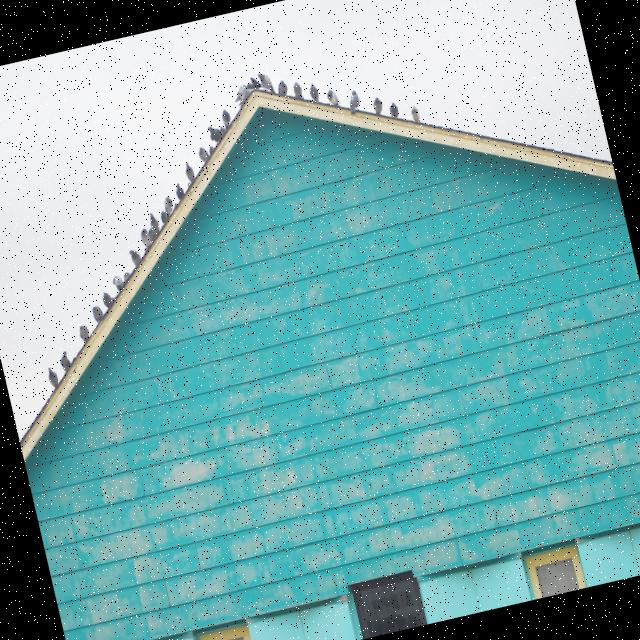bird: (230, 77, 264, 106), (256, 70, 276, 96), (346, 88, 362, 115), (207, 123, 224, 145), (46, 364, 60, 390), (57, 350, 73, 372), (183, 160, 196, 183), (326, 88, 340, 109), (162, 195, 176, 216), (307, 82, 320, 103), (91, 304, 105, 323), (371, 96, 384, 116), (409, 104, 422, 124), (292, 80, 304, 101), (100, 290, 114, 308), (78, 323, 90, 343), (220, 108, 232, 128), (197, 145, 210, 163), (218, 114, 230, 133), (388, 101, 400, 119), (174, 182, 186, 200), (276, 79, 288, 96), (249, 75, 260, 88), (208, 143, 218, 155)
